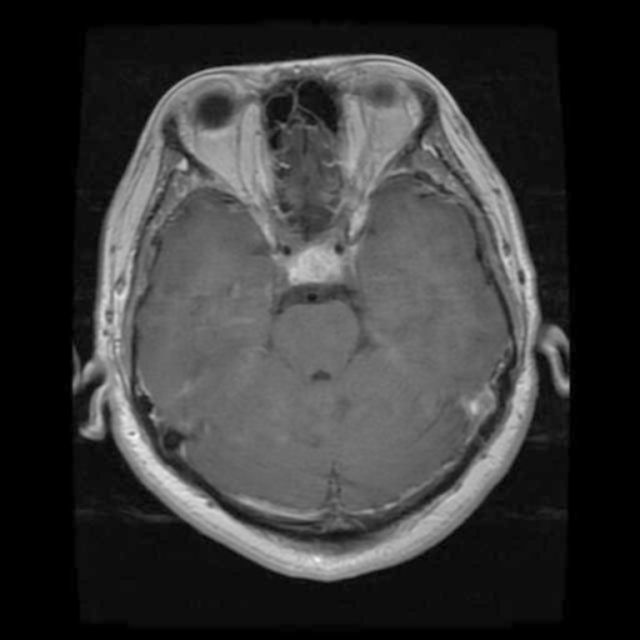no tumor: (276, 242, 355, 288)
